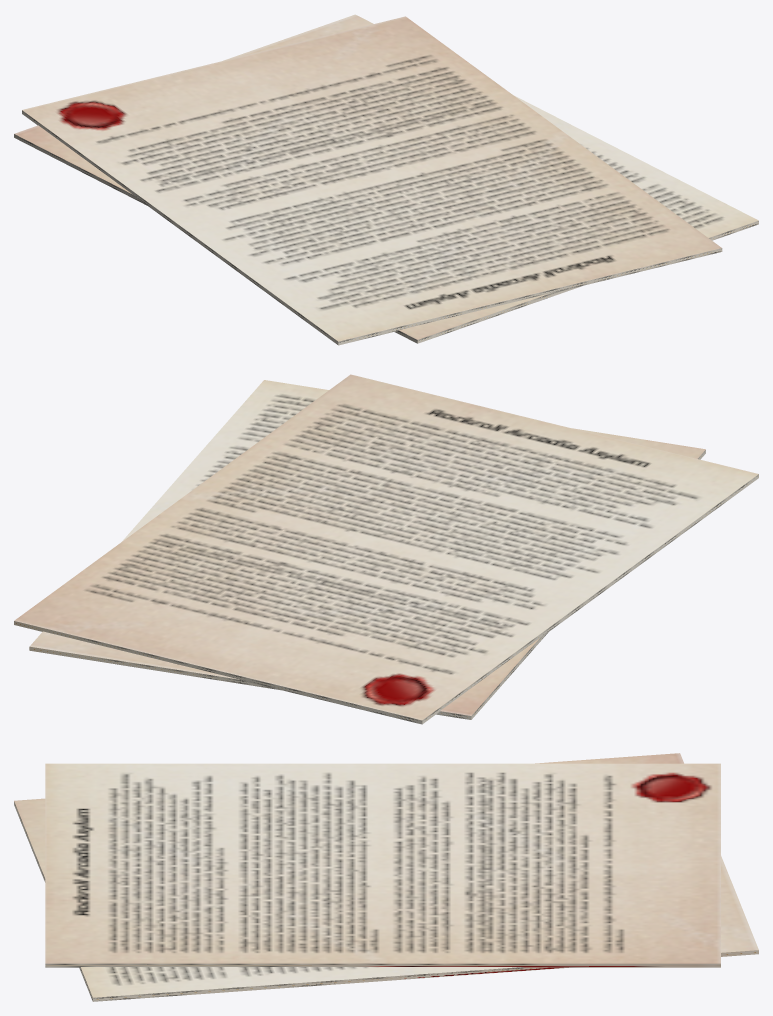
Rendered from document (1).glb.
The picture shows the model from 3 angles, top to bottom: view 1: azimuth 30°, elevation 25°; view 2: azimuth 150°, elevation 25°; view 3: azimuth 270°, elevation 25°; orthographic projection. The views are drawn at different scales.
Visible parts, largest first — view 1: Cube.001; view 2: Cube.001; view 3: Cube.001.
Part boxes in pixels (bbox=[...]): Cube.001: bbox=[14, 14, 758, 345]; Cube.001: bbox=[14, 374, 758, 724]; Cube.001: bbox=[14, 753, 758, 1001].
Size of the model in its own units: 0.2571 by 0.0037 by 0.3308.
2 materials, 2 textured.
